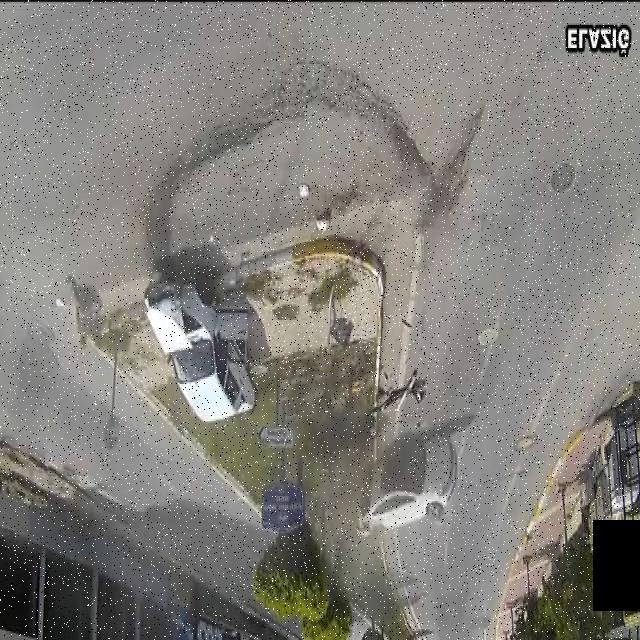severe: (353, 428, 460, 548)
